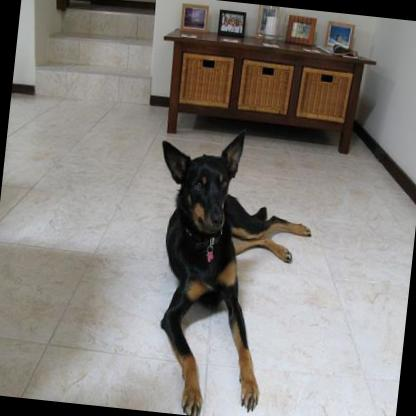kelpie: (132, 117, 320, 416)
